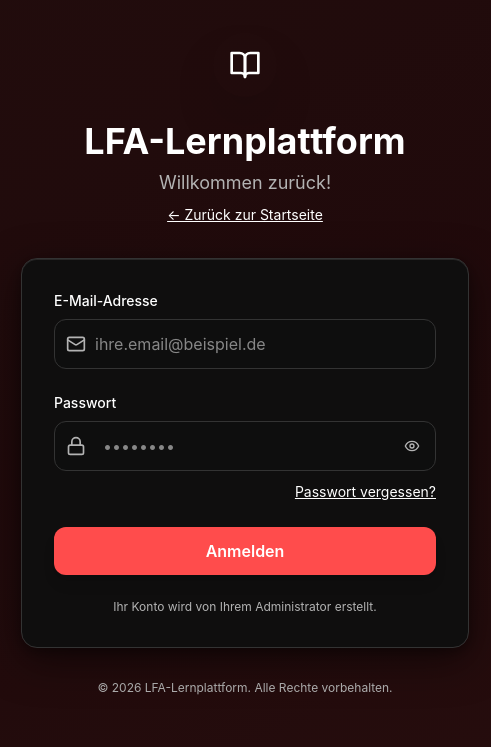
Test case: LoginForm and the occupation choice › a platform with several active occupations › shows a failed sign in as before and does not ask where to go
The width and height of the screenshot is (491, 747).
Type "azubi@example.com" into the field labelled "E-Mail-Adresse".
click(245, 344); type("azubi@example.com")  # box [54, 318, 436, 368]
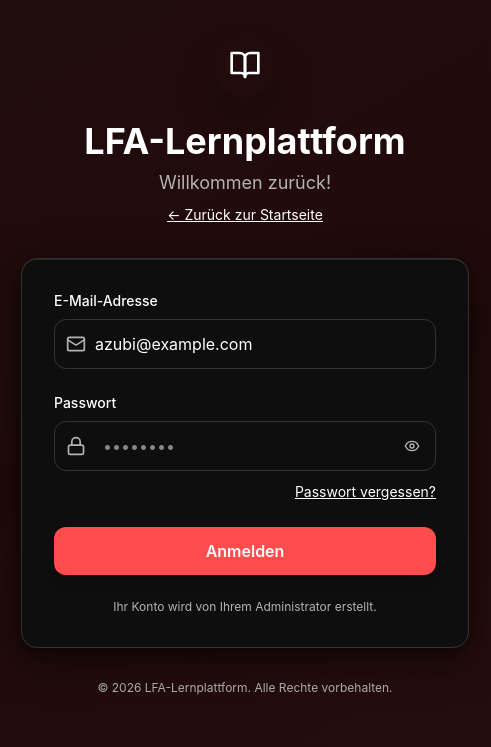
Type "geheim" into the password field labelled "Passwort".
click(245, 446); type("geheim")  # box [54, 420, 436, 470]
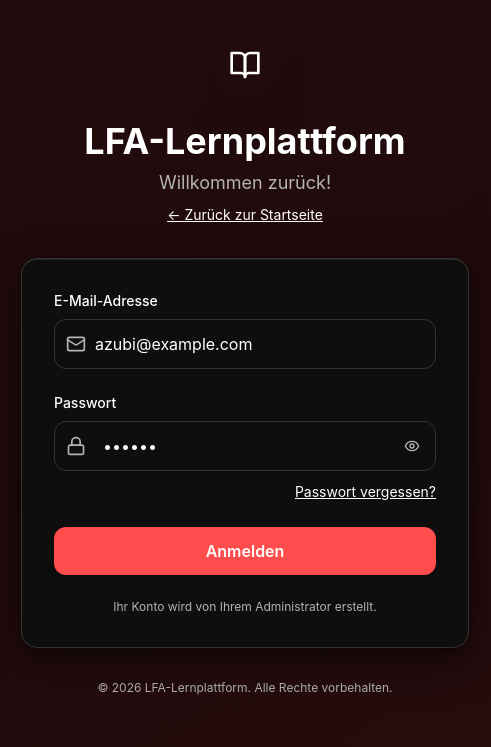
Click the button "Anmelden".
click(245, 550)  # box [54, 526, 436, 574]
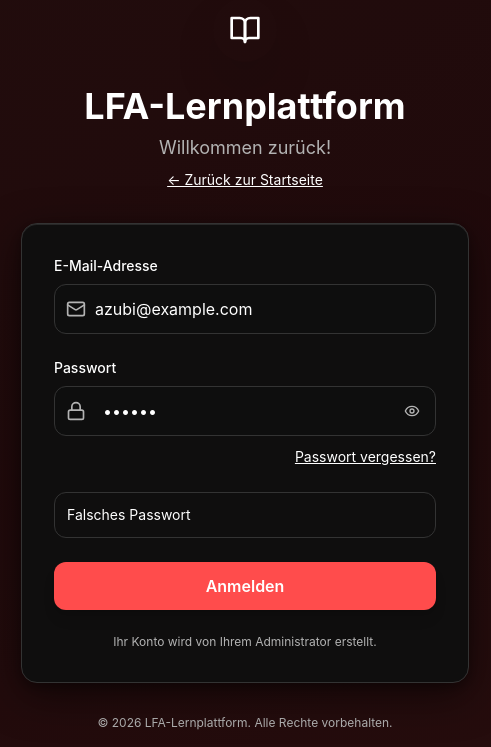
expect the text "Falsches Passwort" is shown: met, box [67, 506, 191, 522]
